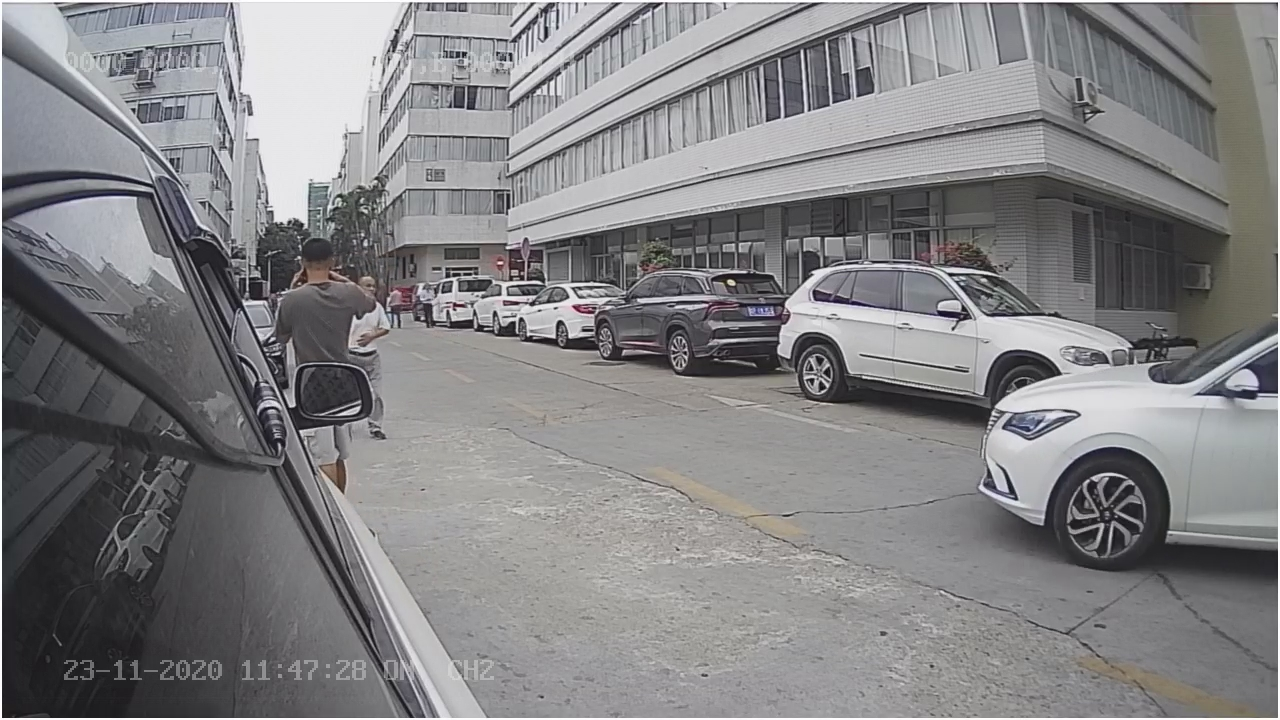person: (272, 231, 378, 362)
